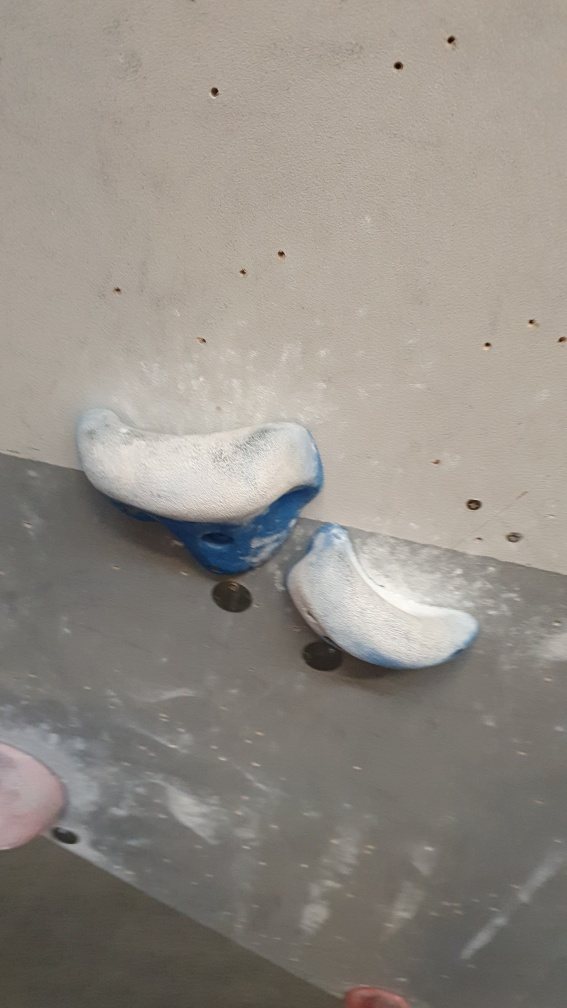Hand Start: (293, 631, 355, 675), (206, 576, 255, 615), (49, 816, 83, 850)
Jug: (70, 403, 325, 577), (290, 523, 479, 686)
